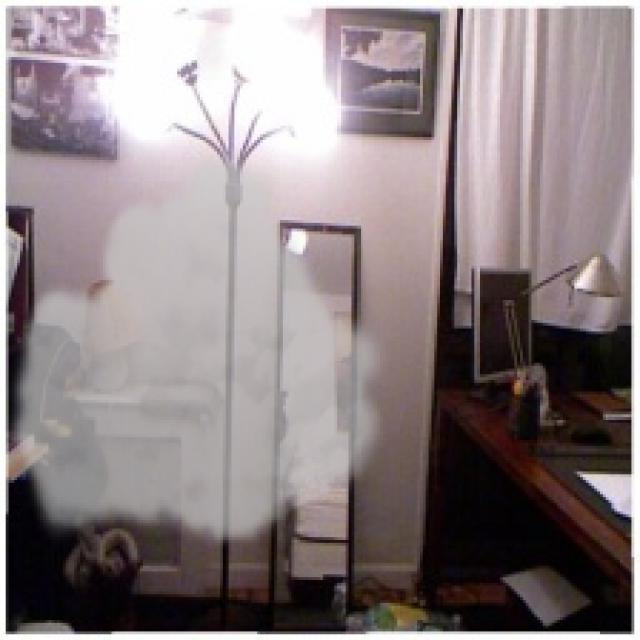Smoke: (6, 140, 394, 549)
